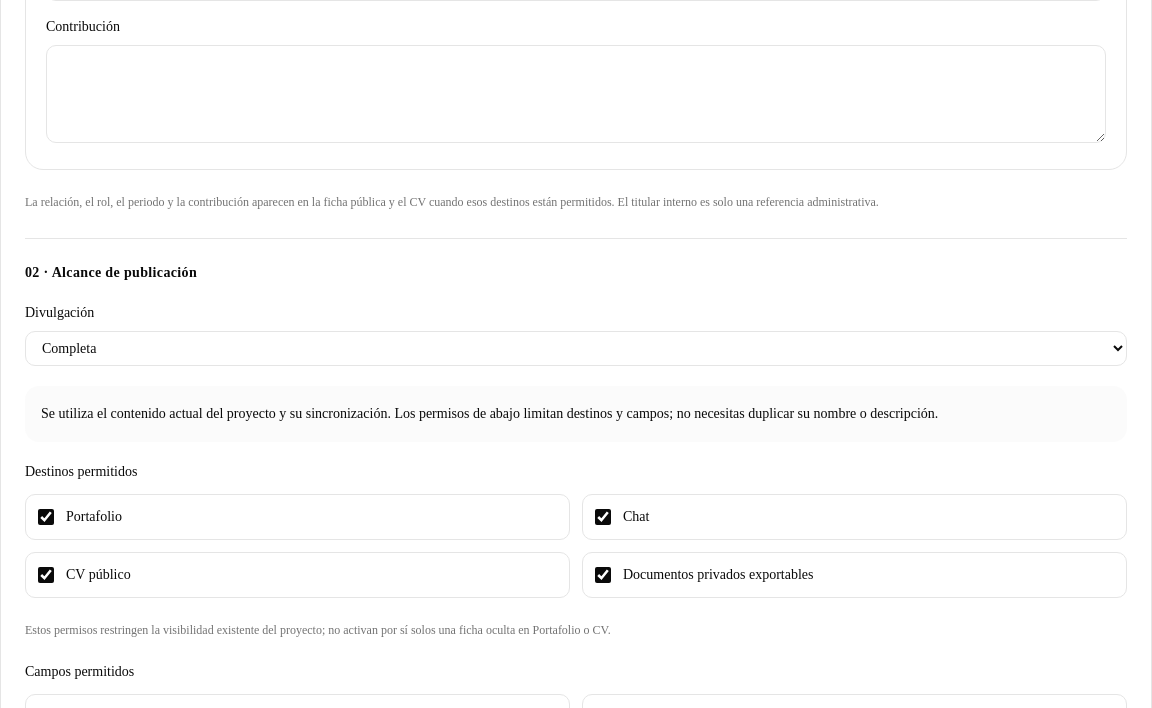
Test case: disclosure editing experience › disables identifying permissions when switching to an anonymous case
The width and height of the screenshot is (1152, 708).
(page scrolled)
Select "Anonimizada" in the dropdown labelled "Divulgación": x=576, y=348 [25,331,1127,366]
(page scrolled)
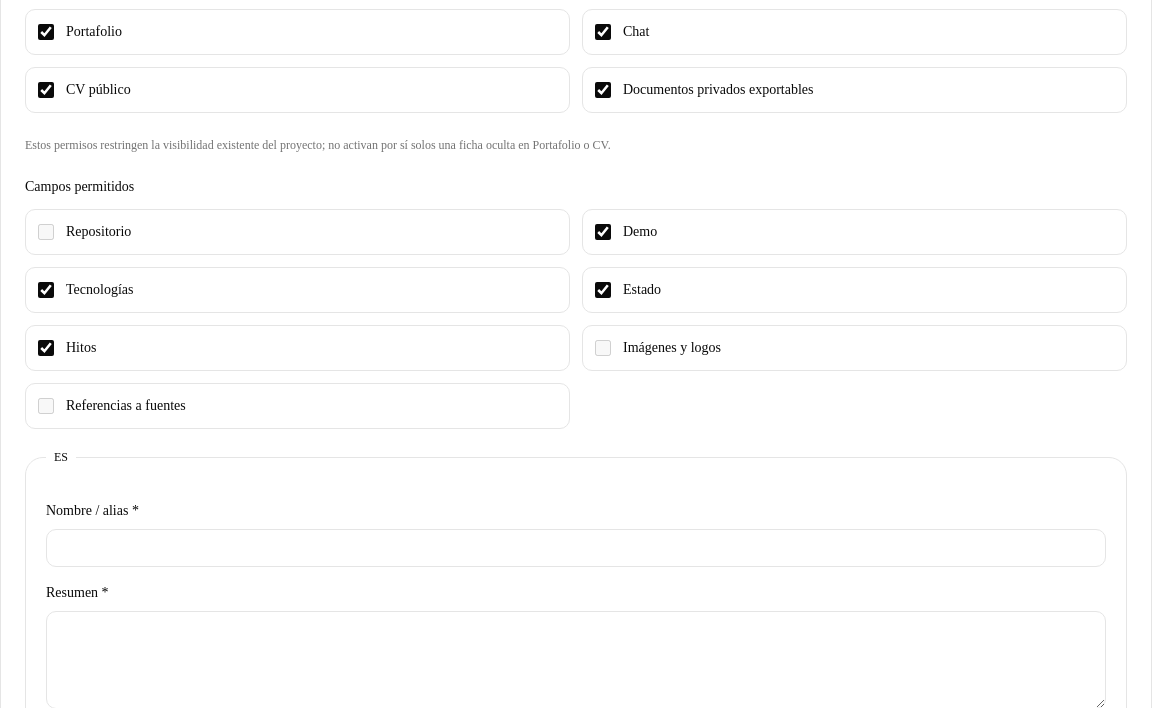
Expected: the checkbox labelled "Repositorio" is not checked, [38,224,54,240]
Expected: the checkbox labelled "Repositorio" is disabled, [38,224,54,240]
Expected: the checkbox labelled "Referencias a fuentes" is not checked, [38,398,54,414]
